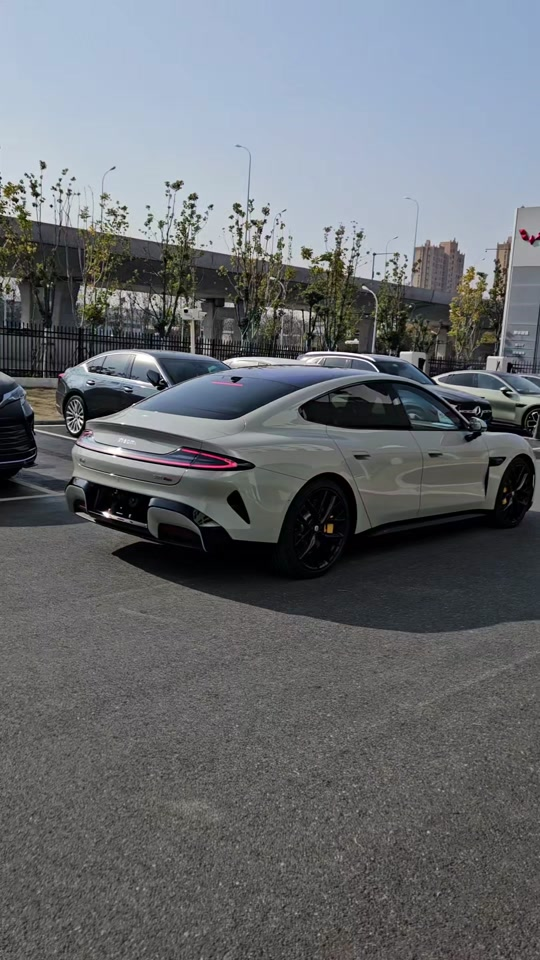su7: (70, 352, 534, 562), (439, 362, 540, 438)
